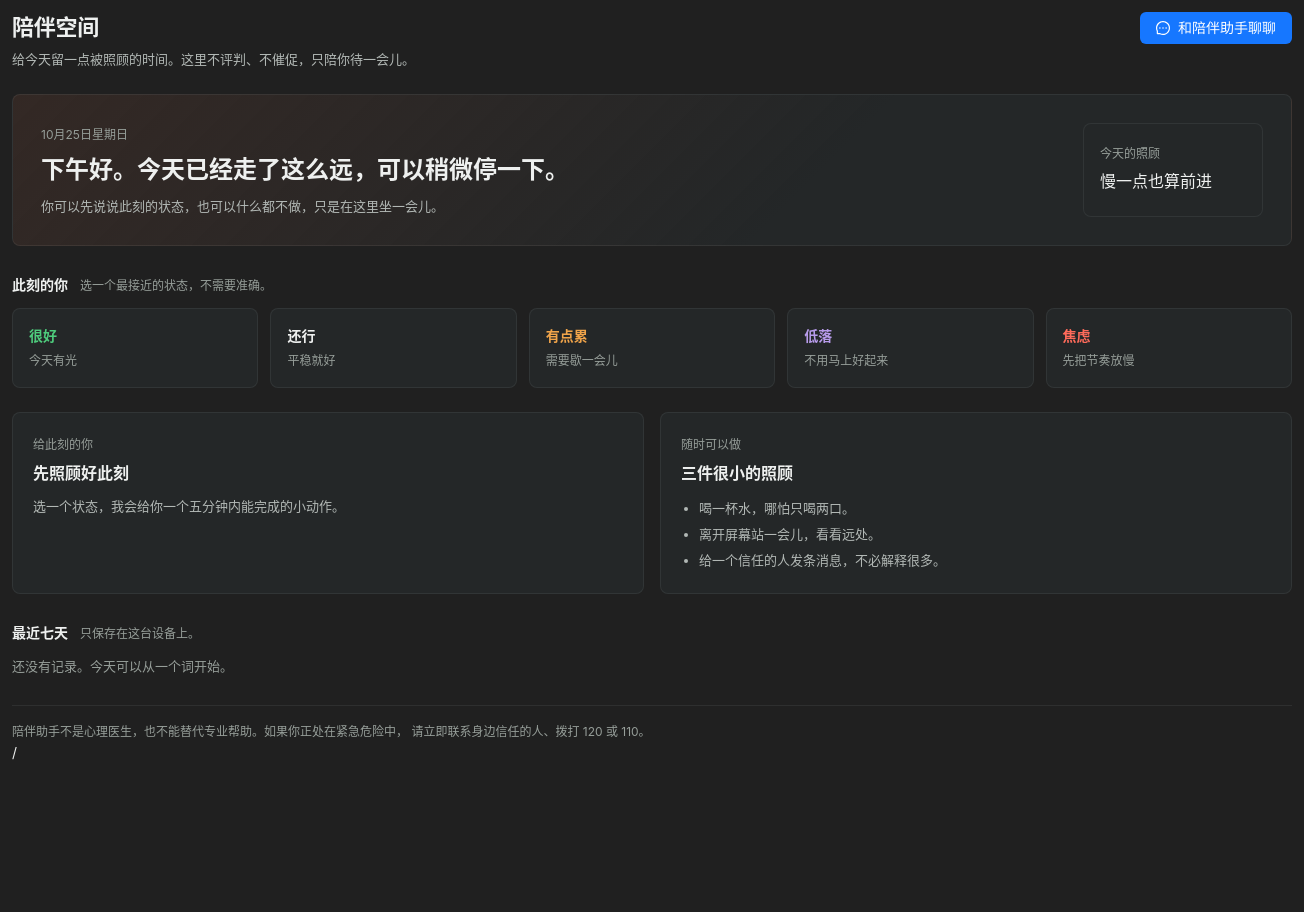
Test: CompanionSpace › 进入陪伴对话页面
What coordinates should you click on to do the following:
click the button "和陪伴助手聊聊"
I would click on:
 (1216, 28)
Its box is [1140, 12, 1292, 44].
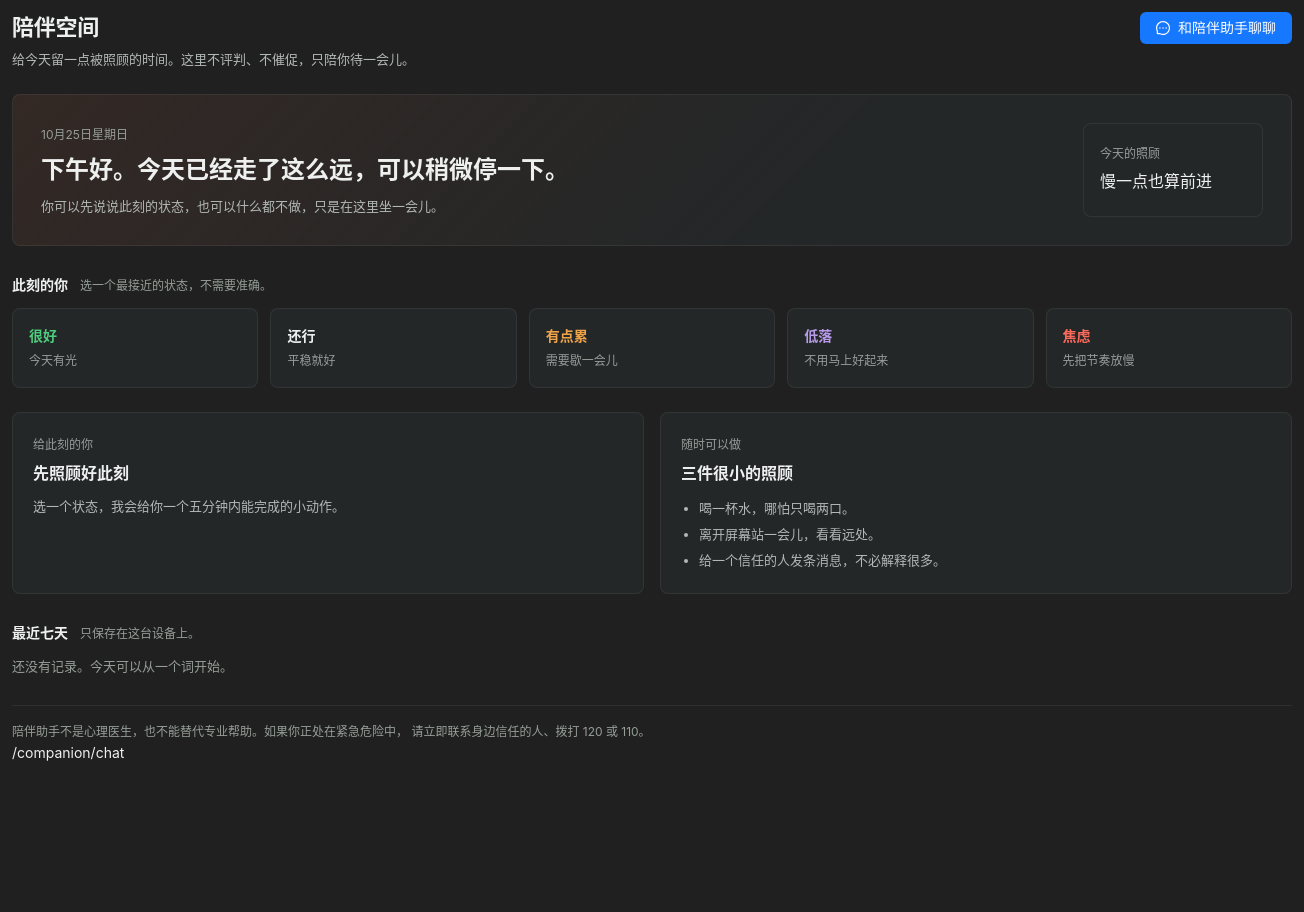
Now the text with test id "location" reads "/companion/chat", box [12, 744, 124, 761]
